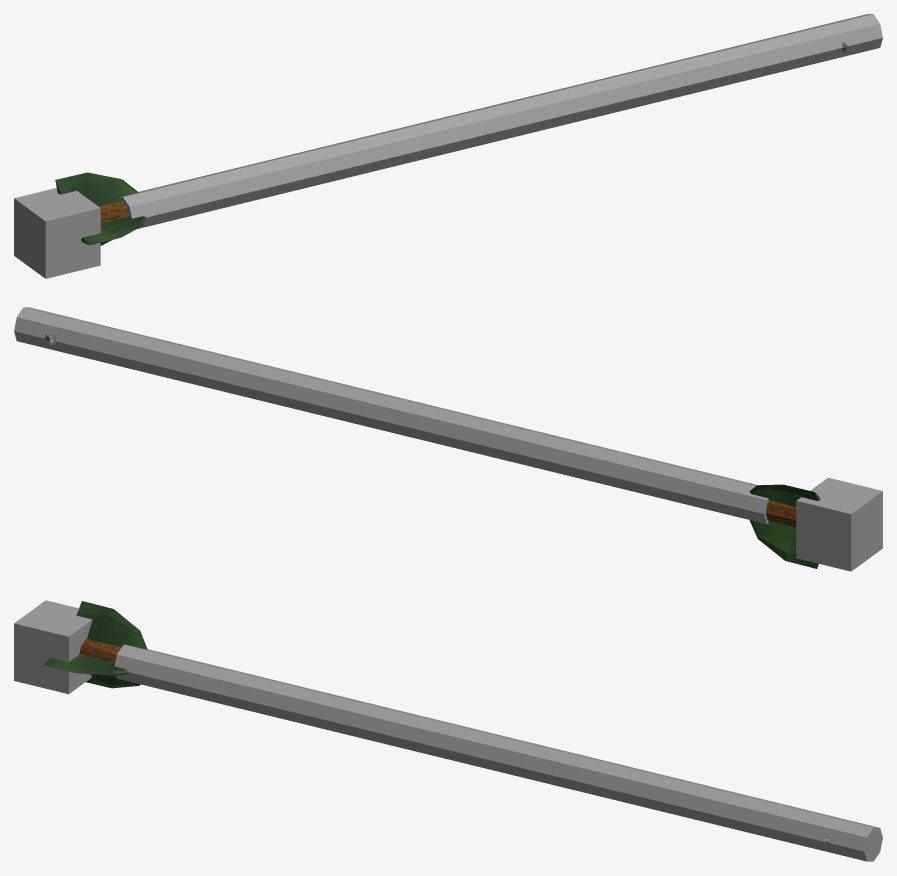
The model's file is arrow.obj.
3 renders of one model, top to bottom at view 1: azimuth 30°, elevation 25°; view 2: azimuth 150°, elevation 25°; view 3: azimuth 330°, elevation 25°, orthographic.
Visible parts, largest first — view 1: arrow_coll, pivot, arrow; view 2: arrow_coll, pivot, arrow; view 3: arrow_coll, pivot, arrow.
Boxes of the visible parts, x1,y1,x2,y2 form: arrow_coll: (120,14,882,228); pivot: (14,188,100,278); arrow: (55,42,847,245); arrow_coll: (14,307,768,524); pivot: (796,477,882,571); arrow: (44,334,820,568); arrow_coll: (114,644,882,861); pivot: (14,600,92,694); arrow: (43,601,876,845).
Bounding box in the file's own units: 2.18 × 0.1934 × 0.1741.
2 materials, 1 textured.
